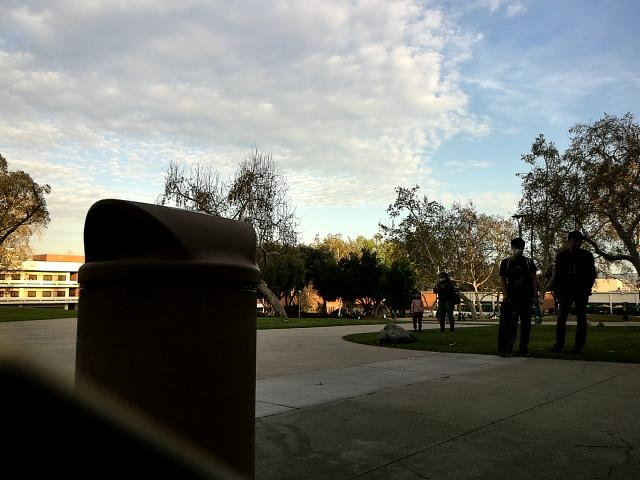trashcan: (51, 185, 257, 480)
